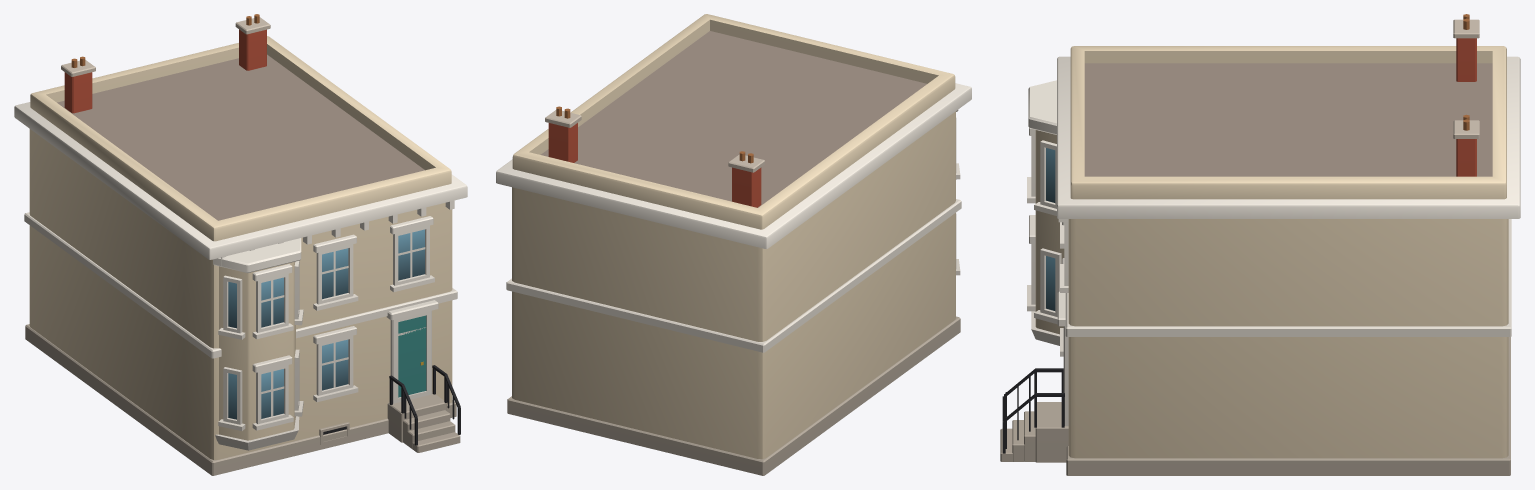
The model's file is beacon_n16.glb.
3 renders of one model, left to right at view 1: azimuth 30°, elevation 25°; view 2: azimuth 150°, elevation 25°; view 3: azimuth 270°, elevation 25°, orthographic. The views are drawn at different scales.
Visible parts, largest first — view 1: beacon_n16; view 2: beacon_n16; view 3: beacon_n16.
Part boxes in pixels (left/top/right/bottom): beacon_n16: left=14, top=14, right=467, bottom=475; beacon_n16: left=496, top=14, right=971, bottom=475; beacon_n16: left=1000, top=14, right=1520, bottom=475.
Size of the model in its own units: 9.64 by 10.14 by 14.18.
Materials: 1 (1 with a texture image).
